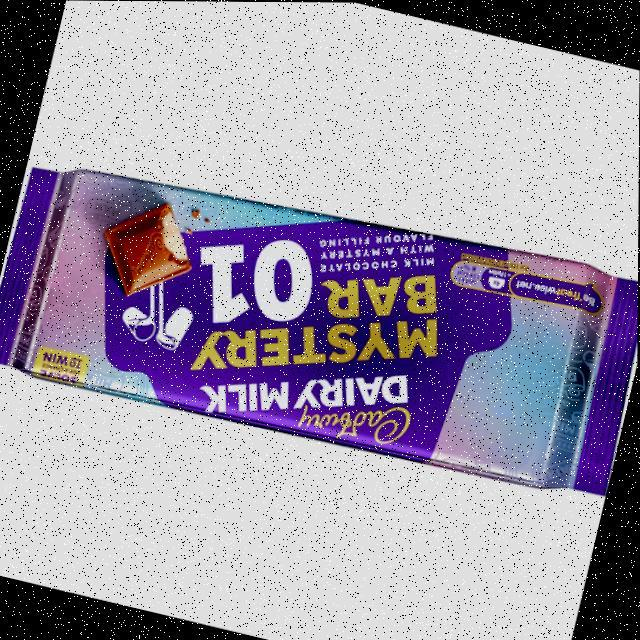cadbury_chocolate: (40, 172, 608, 488)
